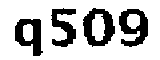0: (79, 6, 116, 51)
5: (47, 5, 77, 52)
9: (117, 5, 151, 54)
q: (10, 15, 43, 60)
